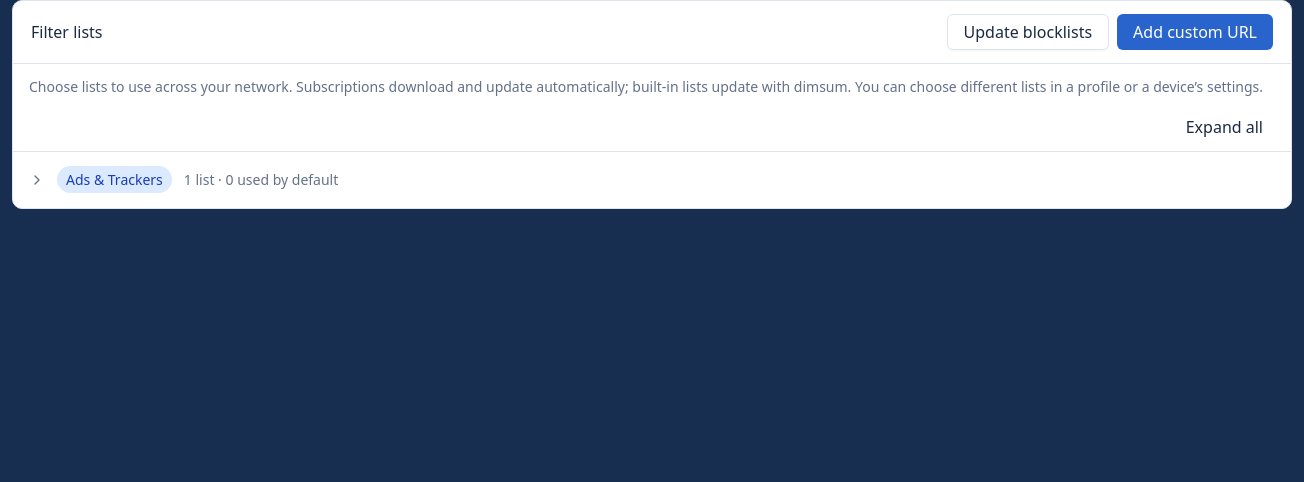
Test: keeps a failed checkbox mutation unchecked and surfaces the conflict
The image size is (1304, 482).
Click the button "Expand all": click(1224, 127) x1=1174 y1=111 x2=1275 y2=143
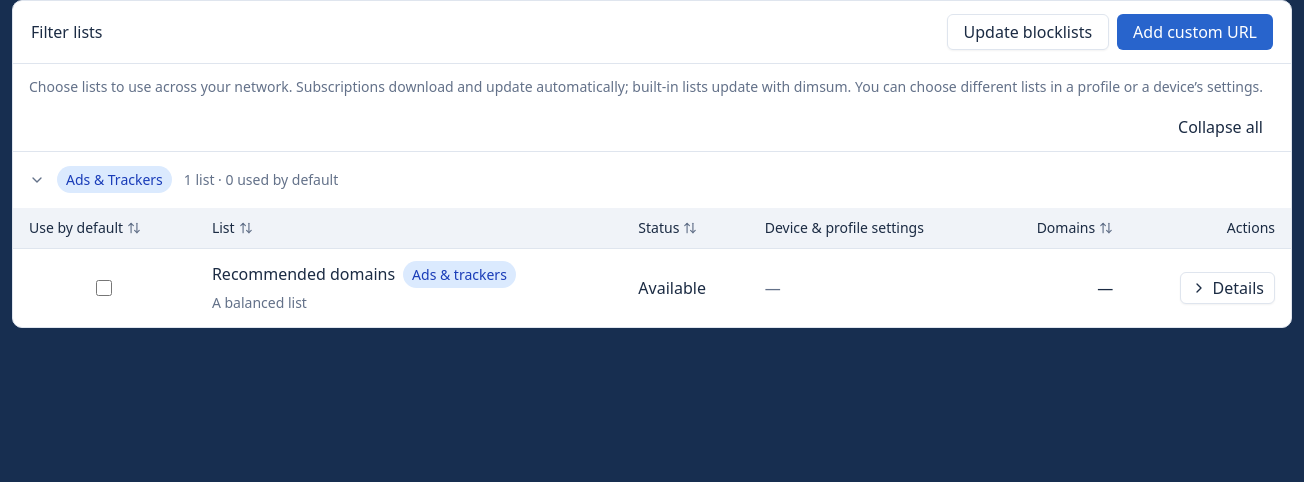
Click the checkbox named "Recommended domains": click(104, 288) x1=96 y1=280 x2=112 y2=296
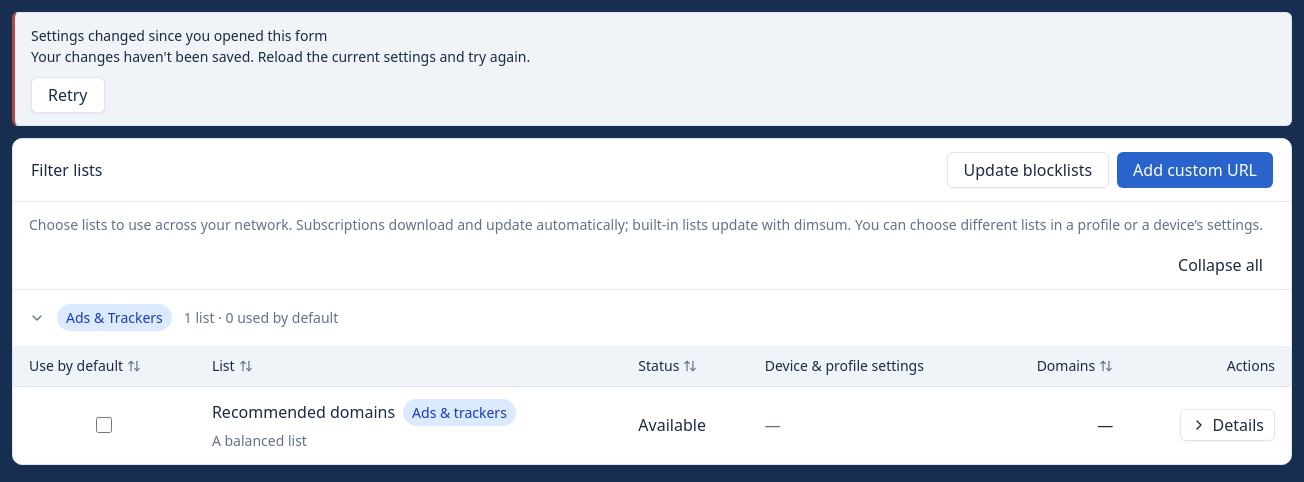
Now the checkbox is not checked, box x1=96 y1=417 x2=112 y2=433
Now the message is shown, box x1=12 y1=12 x2=1292 y2=126
